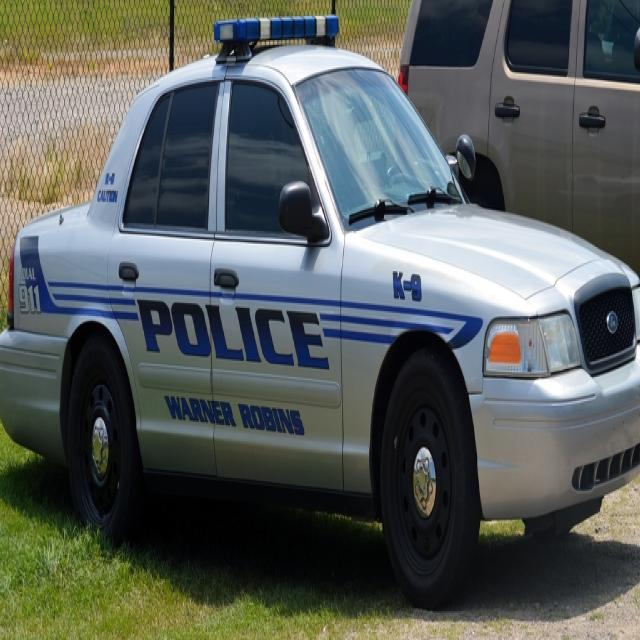car: (9, 52, 629, 583)
